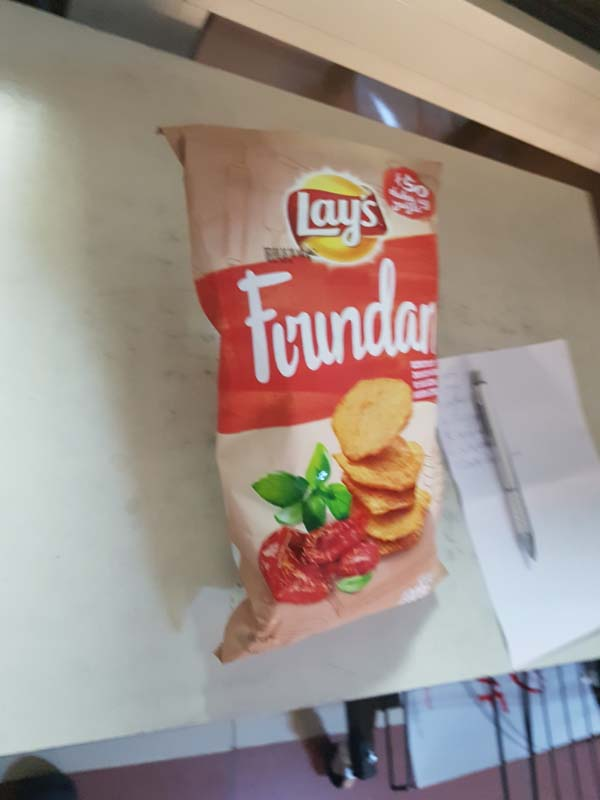laysfirindan: (156, 122, 456, 672)
